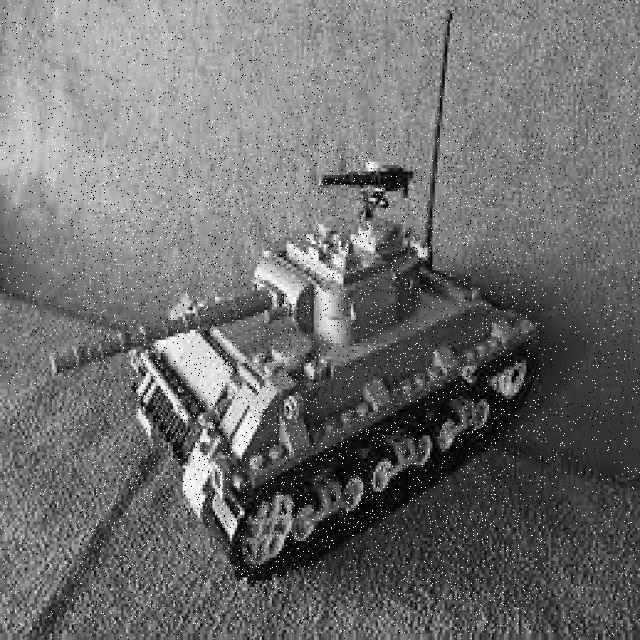MIL_MBT: (73, 141, 545, 625)
